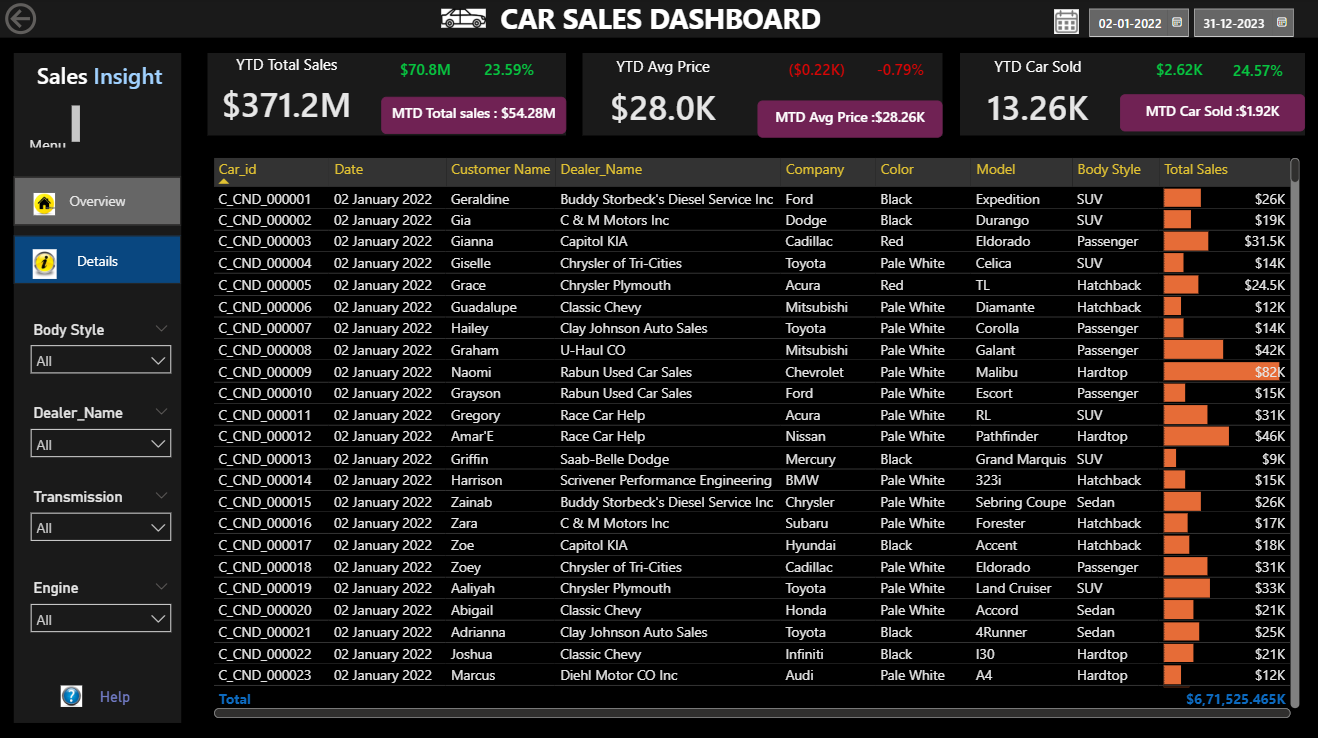

The page's visual inventory and layout, read from the dashboard file:
{"tool":"powerbi","page":{"name":"Details","canvas":[1280,720],"ordinal":1},"visuals":[{"type":"shape","box":[200.9,53.3,347.4,79.9],"z":0},{"type":"shape","box":[929.7,53.3,334.1,79.9],"z":1000},{"type":"shape","box":[564.1,53.3,348.6,79.9],"z":2000},{"type":"shape","box":[13.3,53.3,162.2,648.8],"z":3000},{"type":"shape","box":[0,0,1279.5,38.7],"z":4000},{"type":"card","title":"YTD Total Sales","fields":{"Values":["Calendar Table.YTD Total Sales"]},"box":[186.4,53.3,182.8,79.9],"z":5000},{"type":"card","fields":{"Values":["Calendar Table.Sales Diffrence"]},"box":[371.6,53.3,81.1,36.3],"z":6000},{"type":"card","fields":{"Values":["Calendar Table.YOY Sales Growth"]},"box":[452.7,53.3,81.1,36.3],"z":7000},{"type":"card","fields":{"Values":["Calendar Table.MTD KPI"]},"box":[369.2,95.6,179.2,36],"z":8000},{"type":"card","title":"YTD Avg Price","fields":{"Values":["Calendar Table.YTD Avg Price"]},"box":[550.8,55.7,182.8,79.9],"z":9000},{"type":"card","fields":{"Values":["Calendar Table.Avg Sales Diffrence"]},"box":[750.5,53.3,81.1,36.3],"z":10000},{"type":"card","fields":{"Values":["Calendar Table.YOY Avg Sales Growth"]},"box":[831.6,53.3,81.1,36.3],"z":11000},{"type":"card","fields":{"Values":["Calendar Table.MTD Avg KPI"]},"box":[733.6,99.3,179.2,36.3],"z":12000},{"type":"card","title":"YTD Car Sold","fields":{"Values":["car_data.YTD Car Sold"]},"box":[913.9,55.7,182.8,79.9],"z":13000},{"type":"card","fields":{"Values":["Calendar Table.MTD Car Sold KPI"]},"box":[1084.6,93.2,179.2,36.3],"z":14000},{"type":"card","fields":{"Values":["car_data.Car Sold Diff"]},"box":[1101.2,53.3,81.2,36.3],"z":15000},{"type":"card","fields":{"Values":["car_data.YOY Car sold Growth"]},"box":[1177.5,55.7,81.2,33.9],"z":16000},{"type":"actionButton","box":[0,0,100,40],"z":17000},{"type":"slicer","fields":{"Values":["car_data.Body Style"]},"box":[19.4,307.5,156.2,81.1],"z":18000},{"type":"slicer","fields":{"Values":["car_data.Dealer_Name"]},"box":[19.4,388.6,156.2,81.1],"z":19000},{"type":"slicer","fields":{"Values":["car_data.Transmission"]},"box":[19.4,469.7,156.2,88.4],"z":20000},{"type":"slicer","fields":{"Values":["car_data.Engine"]},"box":[19.4,558,156.2,81.1],"z":21000},{"type":"tableEx","fields":{"Values":["car_data.Car_id","car_data.Date","car_data.Customer Name","car_data.Dealer_Name","car_data.Company","car_data.Color","car_data.Model","car_data.Body Style","car_data.Price ($)"]},"box":[200.9,150.1,1062.8,552],"z":22000},{"type":"textbox","box":[13.3,55.7,162.2,43.6],"z":23000},{"type":"textbox","box":[23,99.3,59.3,50.8],"z":24000},{"type":"pageNavigator","box":[13.3,173.1,162.2,104.1],"z":25000},{"type":"image","box":[13.3,184,59.3,31.5],"z":26000},{"type":"image","box":[8.5,238.5,70.2,38.7],"z":27000},{"type":"textbox","box":[23,660.9,152.5,30.3],"z":28000},{"type":"image","box":[43.6,660.9,50.8,30.3],"z":29000},{"type":"slicer","fields":{"Values":["car_data.Date"]},"box":[1042.2,0,221.5,38.7],"z":30000},{"type":"image","box":[1014.4,6.1,37.5,33.9],"z":31000},{"type":"image","box":[422.5,0,53.3,39.9],"z":32000}]}

Visuals, with their boxes on the page's 1280x720 design canvas (x1, y1, x2, y2). These are canvas units, not pixel positions in the 1318x738 screenshot, which may show the page scaled, cropped or inside an application window:
shape: (x1=201, y1=53, x2=548, y2=133)
shape: (x1=930, y1=53, x2=1264, y2=133)
shape: (x1=564, y1=53, x2=913, y2=133)
shape: (x1=13, y1=53, x2=176, y2=702)
shape: (x1=0, y1=0, x2=1280, y2=39)
"YTD Total Sales" card: (x1=186, y1=53, x2=369, y2=133)
card - Calendar Table.Sales Diffrence: (x1=372, y1=53, x2=453, y2=90)
card - Calendar Table.YOY Sales Growth: (x1=453, y1=53, x2=534, y2=90)
card - Calendar Table.MTD KPI: (x1=369, y1=96, x2=548, y2=132)
"YTD Avg Price" card: (x1=551, y1=56, x2=734, y2=136)
card - Calendar Table.Avg Sales Diffrence: (x1=750, y1=53, x2=832, y2=90)
card - Calendar Table.YOY Avg Sales Growth: (x1=832, y1=53, x2=913, y2=90)
card - Calendar Table.MTD Avg KPI: (x1=734, y1=99, x2=913, y2=136)
"YTD Car Sold" card: (x1=914, y1=56, x2=1097, y2=136)
card - Calendar Table.MTD Car Sold KPI: (x1=1085, y1=93, x2=1264, y2=130)
card - car_data.Car Sold Diff: (x1=1101, y1=53, x2=1182, y2=90)
card - car_data.YOY Car sold Growth: (x1=1178, y1=56, x2=1259, y2=90)
actionButton: (x1=0, y1=0, x2=100, y2=40)
slicer - car_data.Body Style: (x1=19, y1=308, x2=176, y2=389)
slicer - car_data.Dealer_Name: (x1=19, y1=389, x2=176, y2=470)
slicer - car_data.Transmission: (x1=19, y1=470, x2=176, y2=558)
slicer - car_data.Engine: (x1=19, y1=558, x2=176, y2=639)
tableEx - car_data.Car_id x car_data.Date: (x1=201, y1=150, x2=1264, y2=702)
textbox: (x1=13, y1=56, x2=176, y2=99)
textbox: (x1=23, y1=99, x2=82, y2=150)
pageNavigator: (x1=13, y1=173, x2=176, y2=277)
image: (x1=13, y1=184, x2=73, y2=216)
image: (x1=8, y1=238, x2=79, y2=277)
textbox: (x1=23, y1=661, x2=176, y2=691)
image: (x1=44, y1=661, x2=94, y2=691)
slicer - car_data.Date: (x1=1042, y1=0, x2=1264, y2=39)
image: (x1=1014, y1=6, x2=1052, y2=40)
image: (x1=422, y1=0, x2=476, y2=40)
